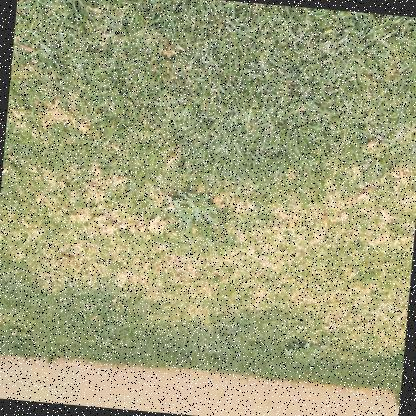Weeds: (161, 181, 223, 235), (285, 336, 329, 359), (93, 331, 118, 350)
